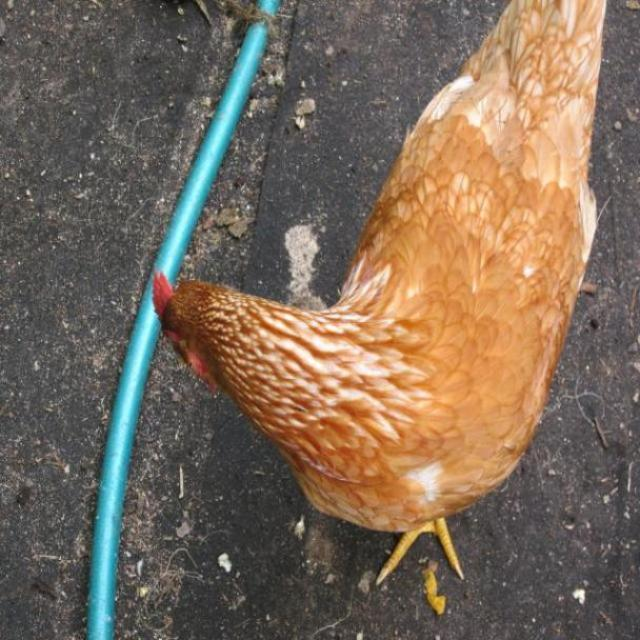Chicken: (153, 2, 602, 581)
